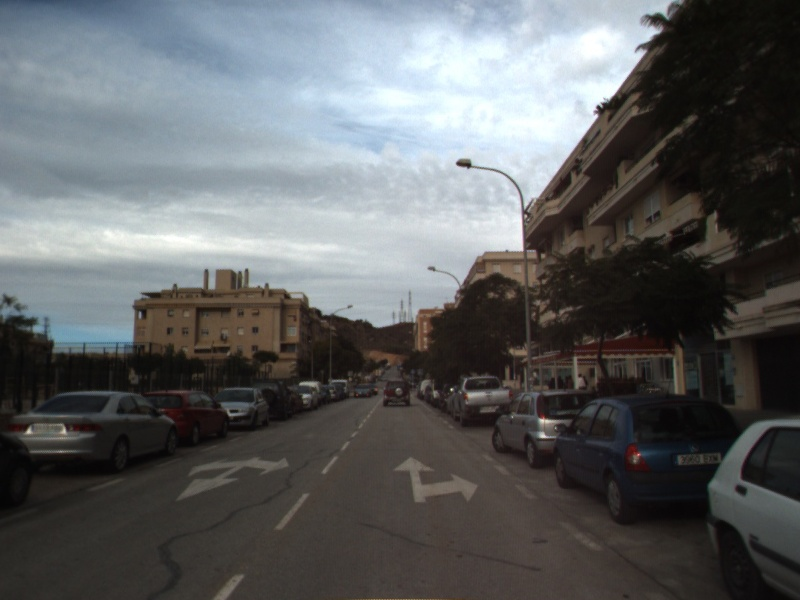STRAIGHT_RIGHT: (391, 455, 480, 505)
